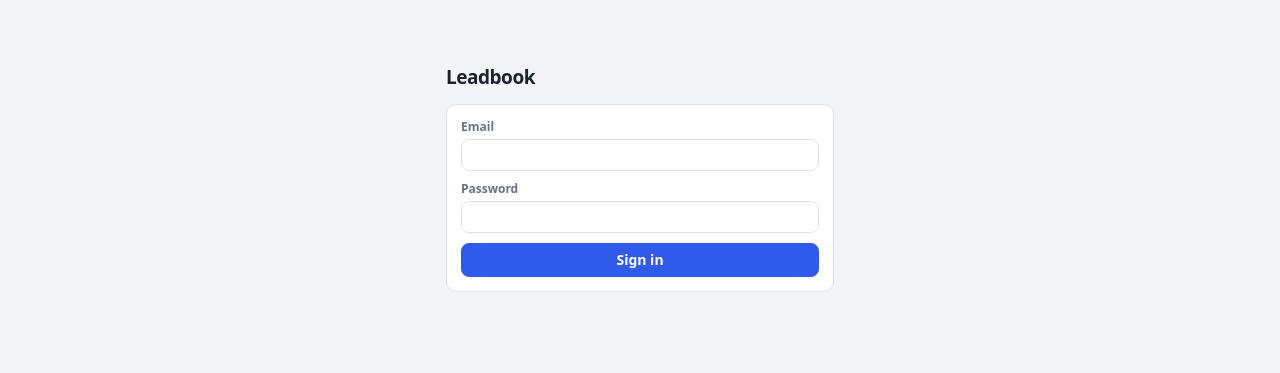
login › signs an employee in and lands on My leads
Type "  priya@demo.com " into the field labelled "Email".
click(640, 154); type("  priya@demo.com ")  # box [461, 138, 819, 170]
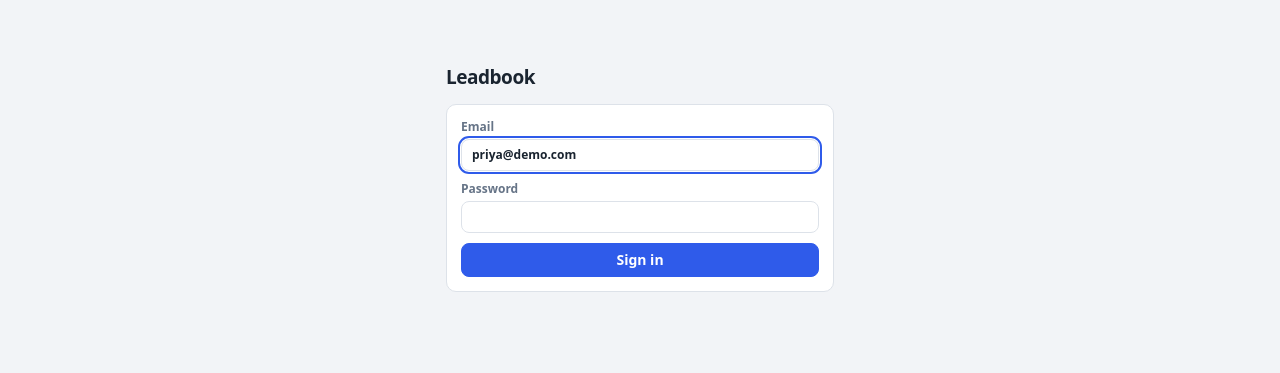
Type "secret-pass" into the password field labelled "Password".
click(640, 216); type("secret-pass")  # box [461, 200, 819, 232]
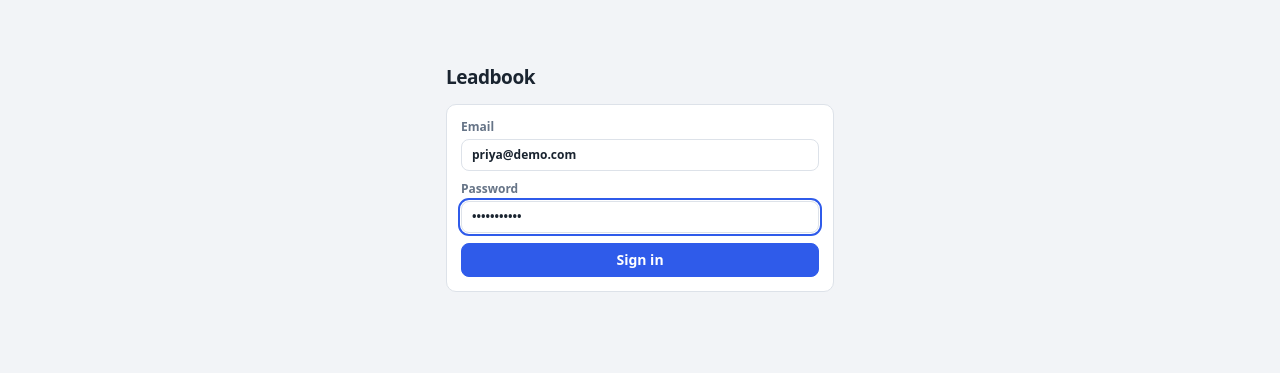
Click the button "Sign in".
click(640, 260)  # box [461, 242, 819, 277]
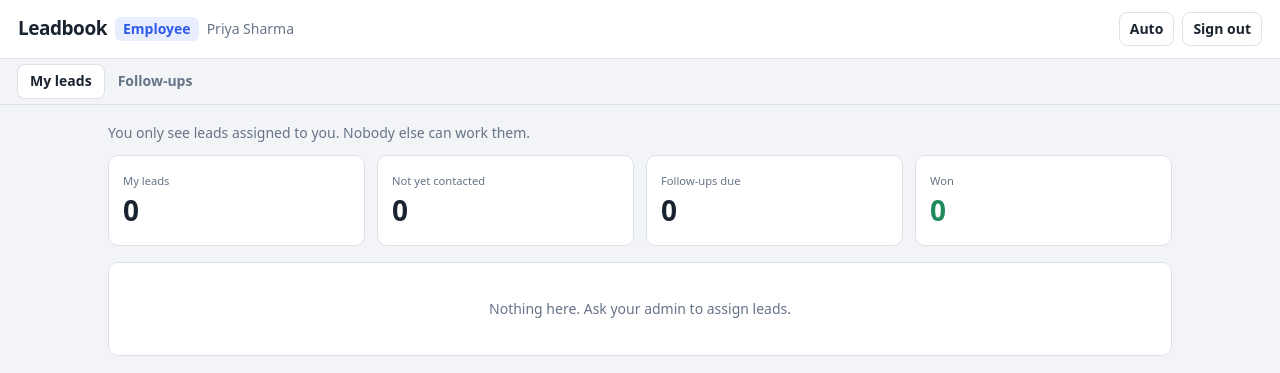
Expected: the text "You only see leads assigned to you" is shown, [108, 123, 530, 142]
